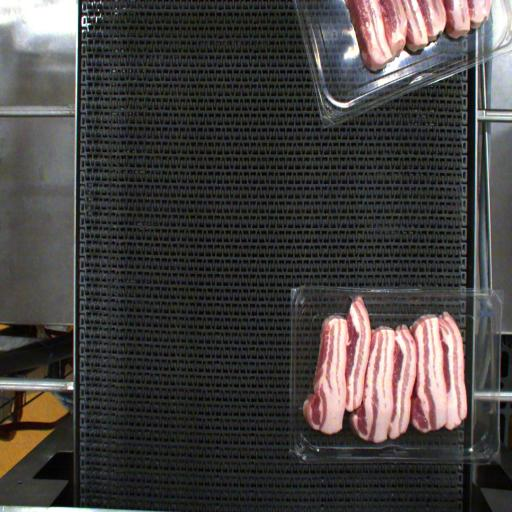packaging-error: (342, 286, 371, 308)
